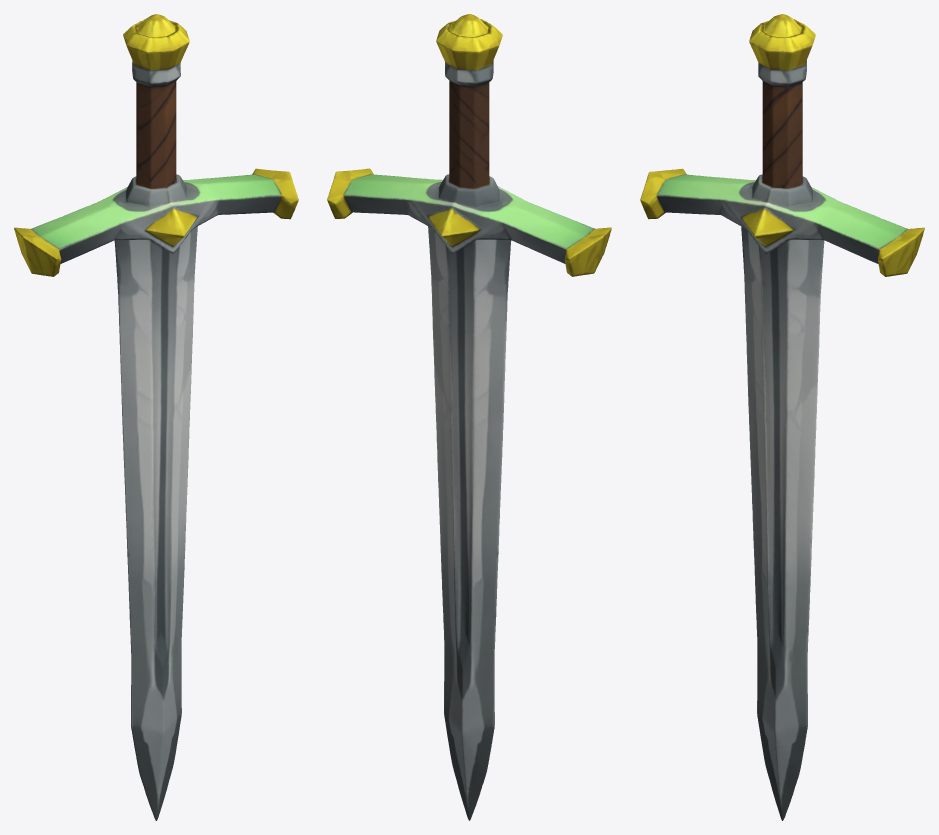
Rendered from Arthur_ExcaliburProxy_FlatGreen_Tight_S1337_Trellis2.glb.
The picture shows the model from 3 angles, left to right: view 1: azimuth 30°, elevation 25°; view 2: azimuth 150°, elevation 25°; view 3: azimuth 330°, elevation 25°; orthographic projection.
Visible parts, largest first — view 1: world; view 2: world; view 3: world.
Part boxes in pixels (bbox=[...]): world: bbox=[14, 14, 298, 820]; world: bbox=[327, 14, 611, 820]; world: bbox=[640, 14, 924, 820].
Bounding box in the file's own units: 0.3468 × 1 × 0.1247.
1 material, 1 textured.
